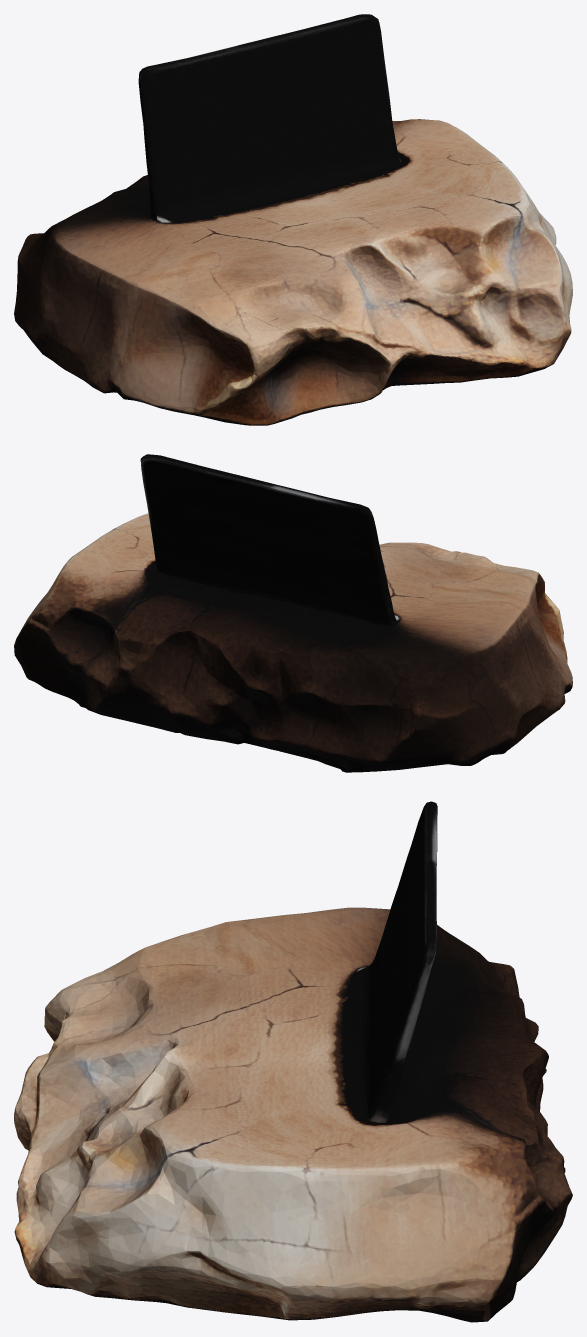
File: stone-docking-station-rustic.jpeg.glb
3 views of the same model, one above another, from view 1: azimuth 30°, elevation 25°; view 2: azimuth 150°, elevation 25°; view 3: azimuth 270°, elevation 25° (orthographic). The views are drawn at different scales.
Parts seen in each view (by area): view 1: world; view 2: world; view 3: world.
Part boxes in pixels (<box>): world: <box>14,14,572,425</box>; world: <box>14,454,572,772</box>; world: <box>14,801,572,1322</box>.
Size of the model in its own units: 1 by 0.4922 by 0.7672.
Materials: 1 (1 with a texture image).
